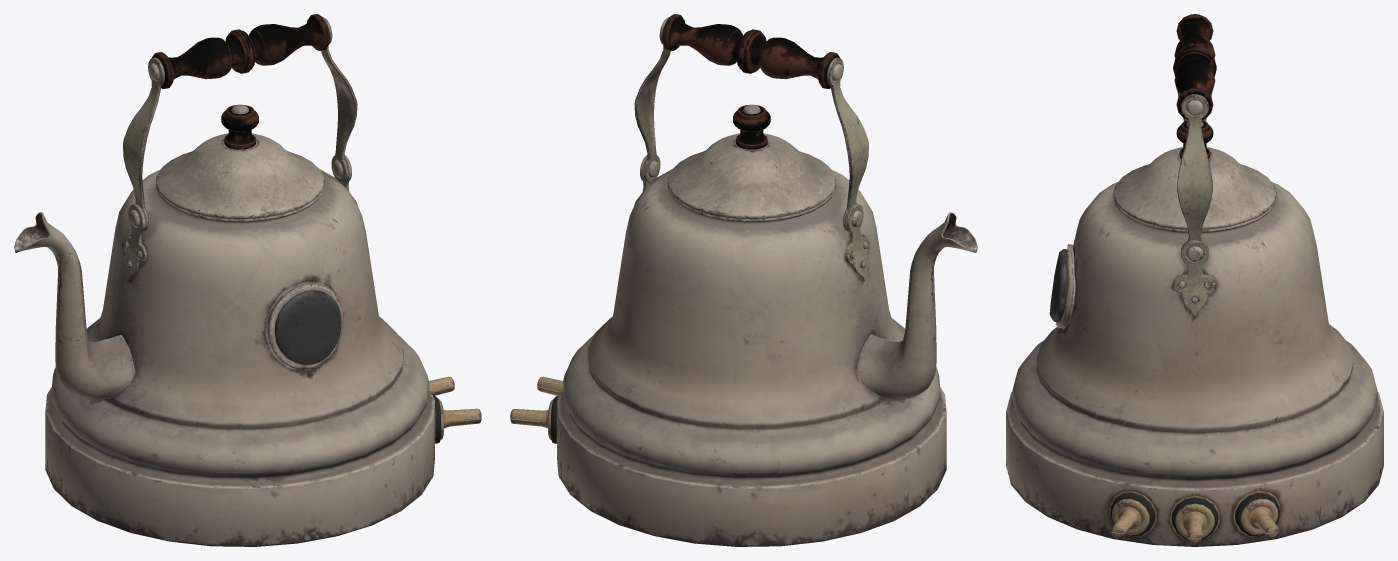
The model's file is vintage_electric_kettle.glb.
3 views of the same model, side by side, from view 1: azimuth 30°, elevation 25°; view 2: azimuth 150°, elevation 25°; view 3: azimuth 270°, elevation 25° (orthographic). The views are drawn at different scales.
Parts seen in each view (by area): view 1: vintage_electric_kettle; view 2: vintage_electric_kettle; view 3: vintage_electric_kettle.
Part boxes in pixels (x1,y1,x2,y2): vintage_electric_kettle: (14, 14, 481, 546); vintage_electric_kettle: (510, 14, 977, 546); vintage_electric_kettle: (1006, 14, 1383, 546).
Bounding box in the file's own units: 0.3209 × 0.3047 × 0.2486.
2 materials, 2 textured.
